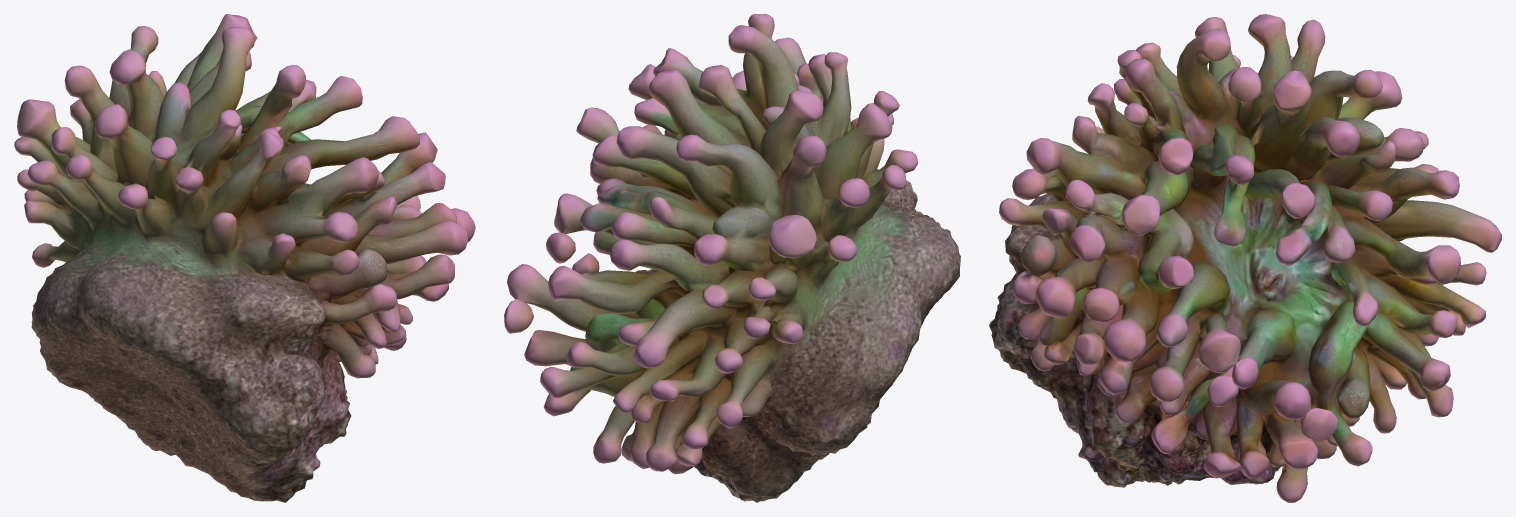
File: anemone.glb
3 views of the same model, side by side, from view 1: azimuth 30°, elevation 25°; view 2: azimuth 150°, elevation 25°; view 3: azimuth 270°, elevation 25° (orthographic). The views are drawn at different scales.
Visible parts, largest first — view 1: tripo_node_0c0ea097-d324-4d20-b4bc-e824100644fc; view 2: tripo_node_0c0ea097-d324-4d20-b4bc-e824100644fc; view 3: tripo_node_0c0ea097-d324-4d20-b4bc-e824100644fc.
Boxes of the visible parts, x1,y1,x2,y2 form: tripo_node_0c0ea097-d324-4d20-b4bc-e824100644fc: [14, 14, 475, 502]; tripo_node_0c0ea097-d324-4d20-b4bc-e824100644fc: [504, 14, 960, 502]; tripo_node_0c0ea097-d324-4d20-b4bc-e824100644fc: [989, 14, 1501, 502].
Bounding box in the file's own units: 0.8717 × 0.9866 × 1.
Materials: 1 (1 with a texture image).
